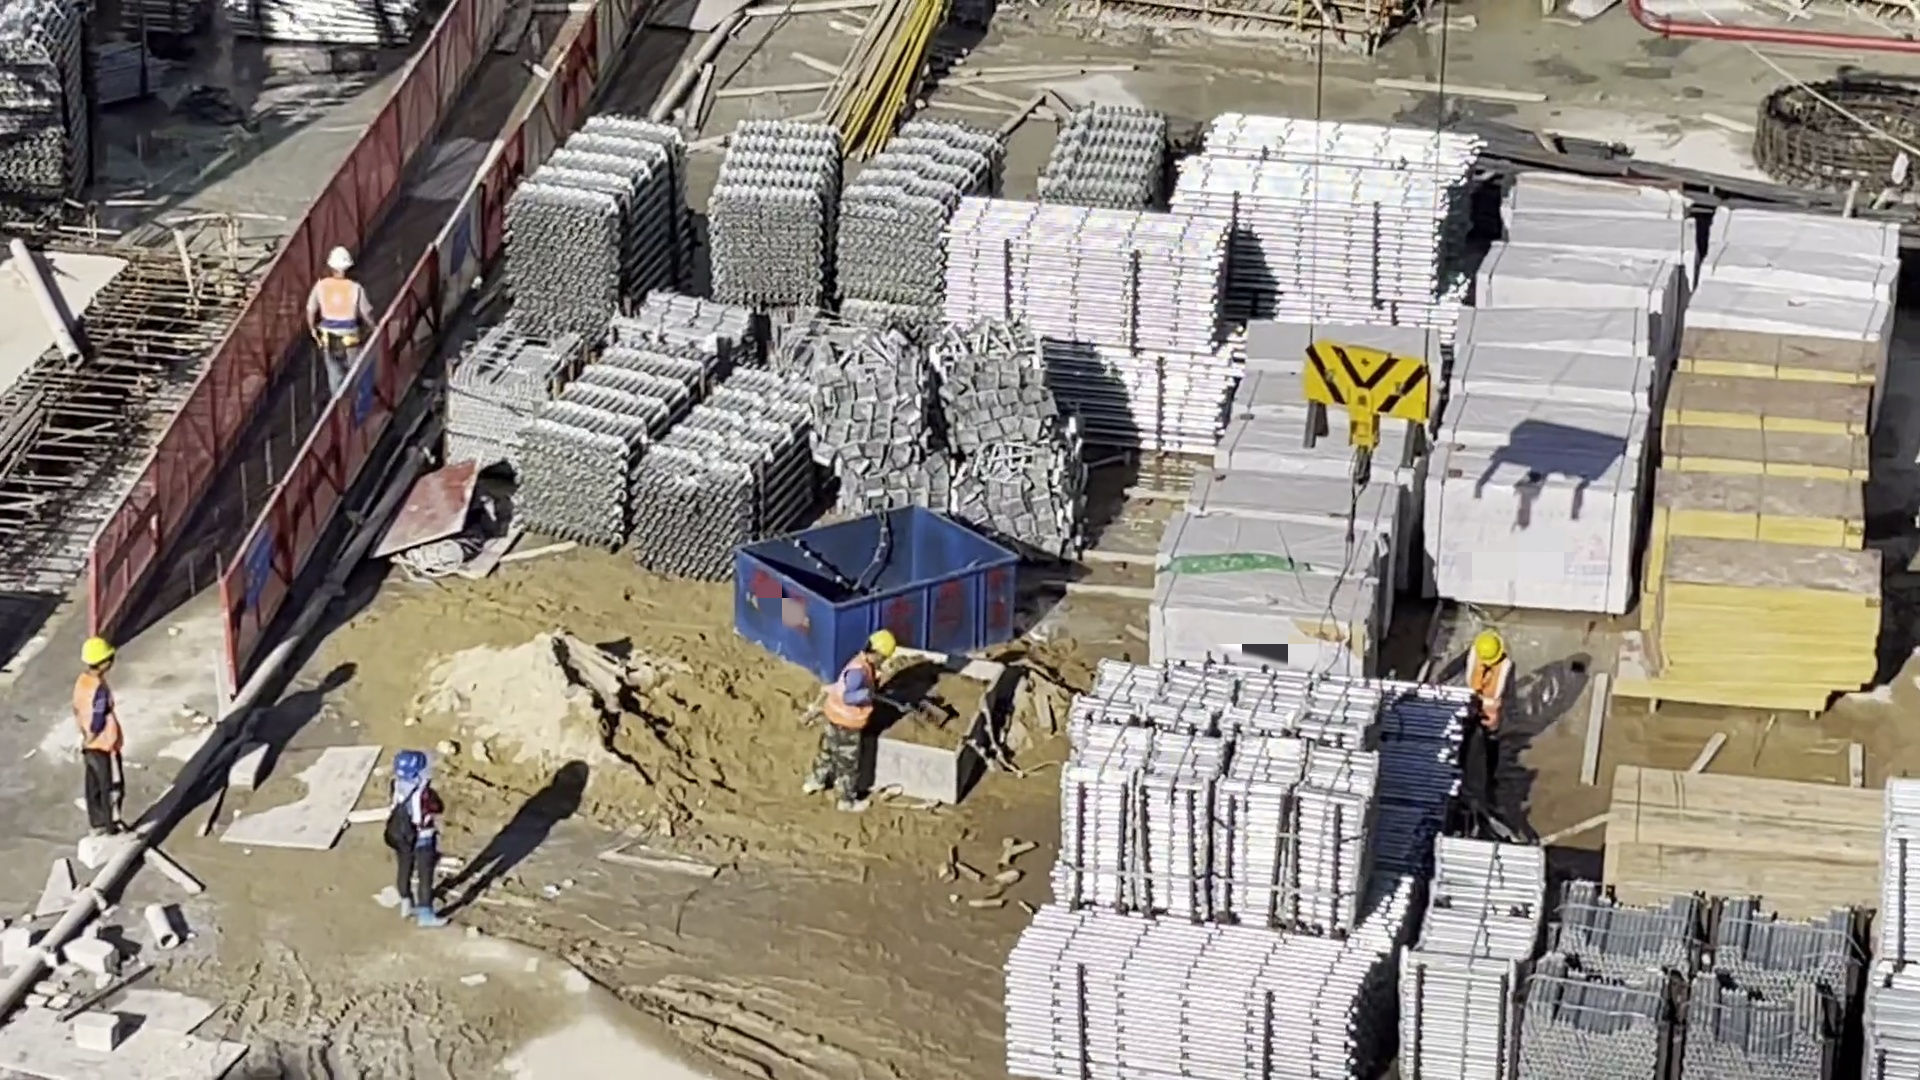fence: (73, 1, 589, 647)
helmet: (316, 240, 372, 285), (379, 739, 430, 786), (78, 626, 115, 680), (865, 627, 906, 668), (1470, 623, 1507, 667)
hook: (1311, 337, 1430, 484)
hopper: (728, 482, 1022, 655), (826, 639, 1024, 790)
person: (355, 748, 454, 927), (42, 644, 138, 826), (815, 611, 896, 810), (300, 248, 377, 396), (1445, 625, 1519, 728)
scaffold: (1003, 665, 1522, 1077), (955, 84, 1227, 449), (530, 295, 762, 550), (1220, 113, 1472, 339), (1549, 875, 1825, 1066), (733, 102, 938, 320), (500, 106, 693, 308)
vest: (824, 651, 881, 730), (1448, 645, 1518, 707), (71, 676, 120, 759), (315, 287, 372, 328)
